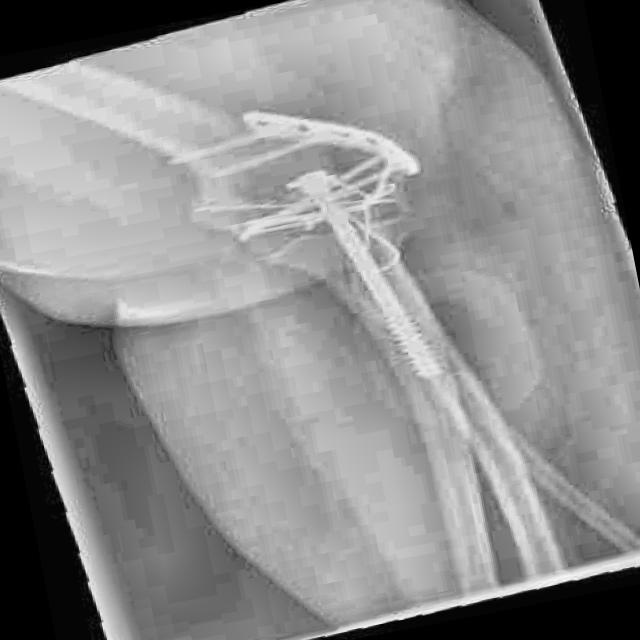elbow positive: (173, 169, 260, 259)
